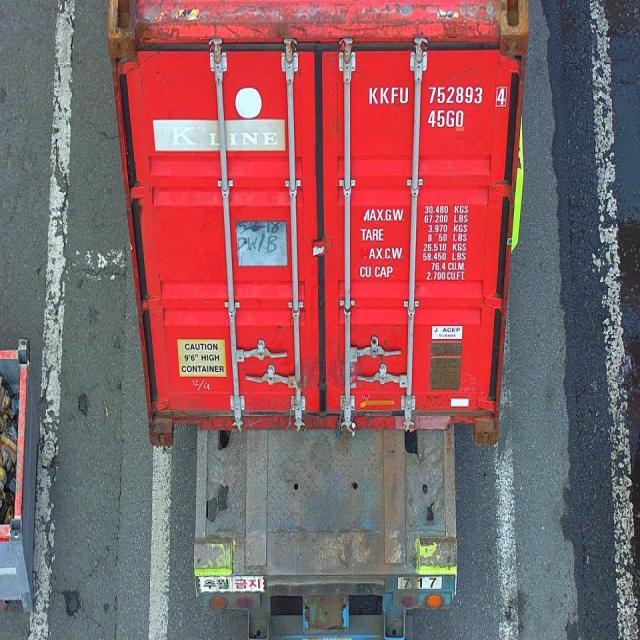ISO: (428, 108, 468, 128)
container_number: (372, 83, 509, 105)
